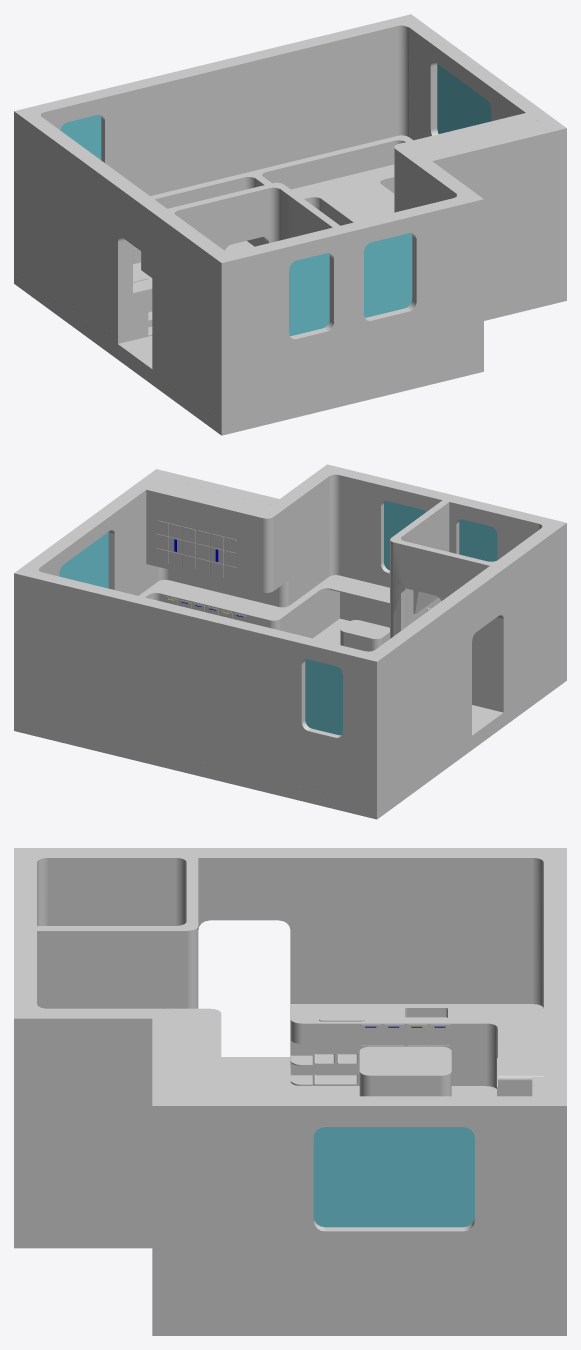
The model's file is memory typeB OptionB.glb.
The picture shows the model from 3 angles, top to bottom: view 1: azimuth 30°, elevation 25°; view 2: azimuth 150°, elevation 25°; view 3: azimuth 270°, elevation 25°; orthographic projection. The views are drawn at different scales.
Visible parts, largest first — view 1: 卧室墙, 厕所墙, 厨房墙, 阅读区墙, 客厅墙, Glass, 卧室床（软）, 卧室床15MM 软包边-皮质, 卧室柜子, 客厅沙发15MM 软包边-皮质, 厨房橱柜; view 2: 厨房墙, 卧室墙, 厕所墙, 客厅墙, 阅读区墙, 卧室柜子, Glass, 卧室柜门, 阅读区桌子, 阅读区椅子（软）; view 3: 卧室墙, 厨房墙, 阅读区墙, 厕所墙, Glass, 厨房橱柜, 厨房餐桌, 卧室柜子, 厨房柜门, 客厅墙, 案板(塑料）, 水池（金属）.
Boxes of the visible parts, x1,y1,x2,y2 form: 卧室墙: [246, 14, 566, 320]; 厕所墙: [152, 182, 348, 435]; 厨房墙: [14, 80, 166, 384]; 阅读区墙: [341, 161, 483, 404]; 客厅墙: [142, 54, 254, 251]; Glass: [60, 64, 491, 335]; 卧室床（软）: [291, 164, 394, 224]; 卧室床15MM 软包边-皮质: [255, 135, 412, 189]; 卧室柜子: [394, 113, 539, 212]; 客厅沙发15MM 软包边-皮质: [150, 170, 271, 208]; 厨房橱柜: [133, 247, 152, 340]; 厨房墙: [260, 566, 503, 819]; 卧室墙: [14, 469, 293, 767]; 厕所墙: [390, 494, 566, 726]; 客厅墙: [164, 604, 267, 790]; 阅读区墙: [280, 464, 449, 644]; 卧室柜子: [146, 479, 296, 634]; Glass: [59, 501, 497, 735]; 卧室柜门: [156, 520, 245, 621]; 阅读区桌子: [290, 575, 389, 638]; 阅读区椅子（软）: [340, 620, 389, 646]; 卧室墙: [152, 999, 566, 1335]; 厨房墙: [198, 848, 566, 1096]; 阅读区墙: [14, 931, 152, 1248]; 厕所墙: [14, 848, 198, 1008]; Glass: [313, 1127, 474, 1227]; 厨房橱柜: [290, 1004, 543, 1096]; 厨房餐桌: [359, 1046, 451, 1096]; 卧室柜子: [164, 1008, 221, 1096]; 厨房柜门: [314, 1024, 497, 1096]; 客厅墙: [544, 931, 566, 998]; 案板(塑料）: [319, 1006, 364, 1021]; 水池（金属）: [404, 1007, 448, 1021].
Bounding box in the file's own units: 7.95 × 3.3 × 7.2.
